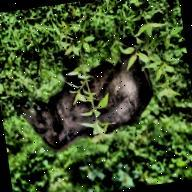boar: (6, 29, 161, 159)
